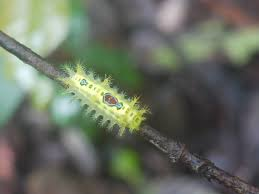Pest! (nettle_caterpillar): (60, 61, 147, 138)
